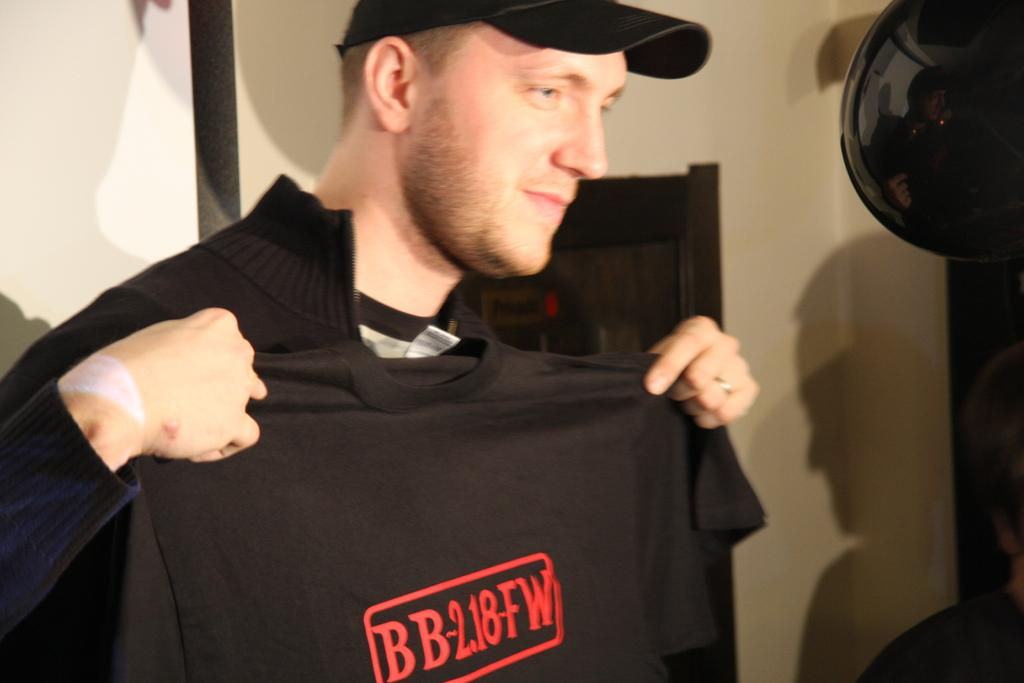Hat: (337, 0, 710, 81)
